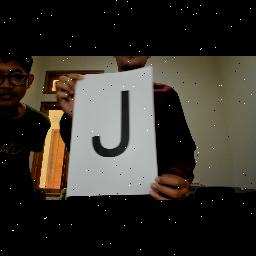j: (86, 86, 140, 164)
